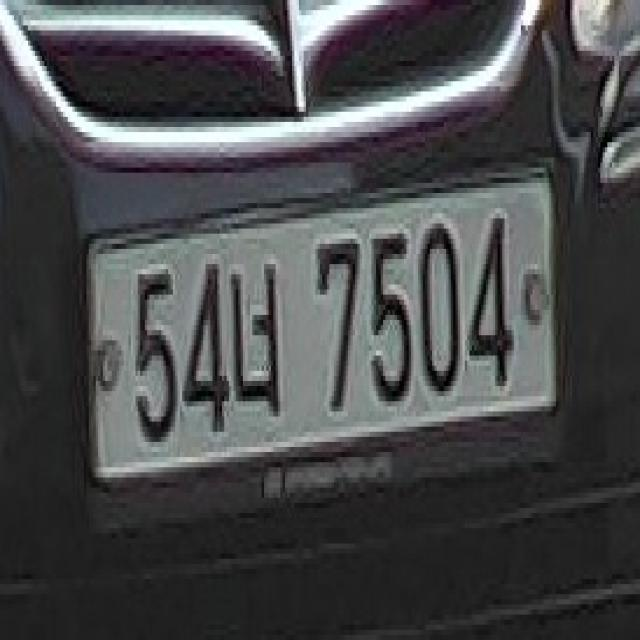0: (411, 198, 470, 417)
4: (467, 198, 526, 406), (180, 244, 229, 452)
5: (126, 264, 180, 467), (367, 218, 413, 432)
7: (306, 223, 371, 437)
license_plate: (80, 147, 568, 513)
neo: (227, 249, 290, 427)
